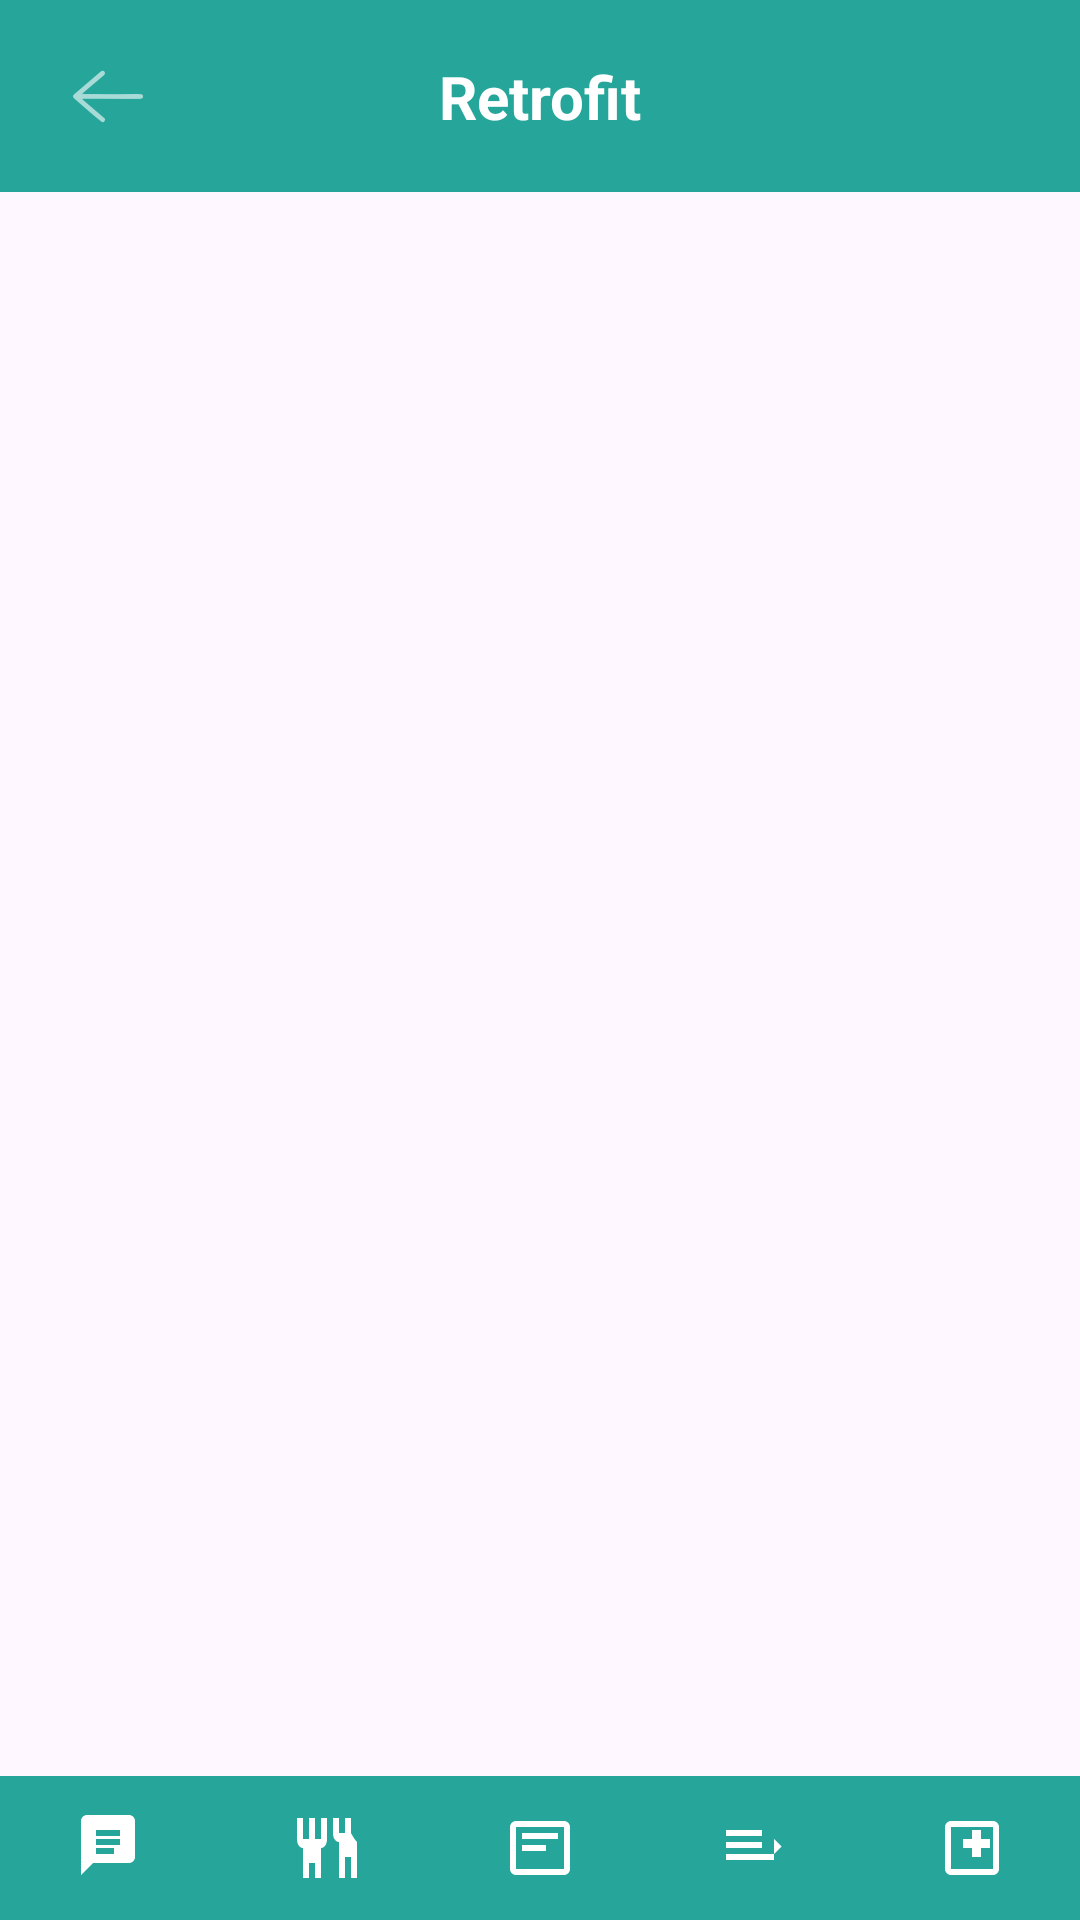

Locate icon controls on the screen. Image size 1080w x 1920h, boxes as (x1, y1, x2, y2).
Botón para cerrar sesión y volver a Login: (73, 71, 143, 122)
card: (510, 1821, 570, 1875)
comida: (297, 1818, 357, 1878)
lista: (726, 1830, 782, 1860)
